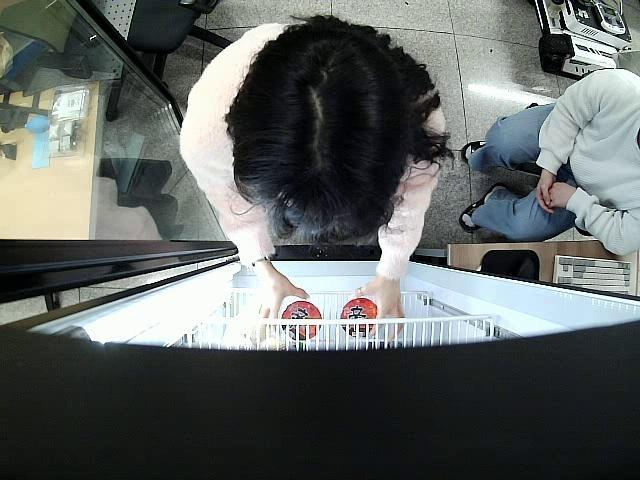02_shinRamen_S: (282, 300, 322, 342), (341, 298, 378, 340)
